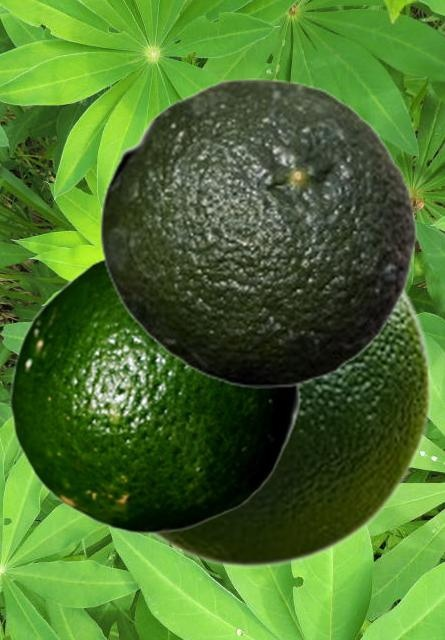calamansi: (99, 78, 417, 387), (9, 255, 300, 533), (146, 285, 432, 567)
